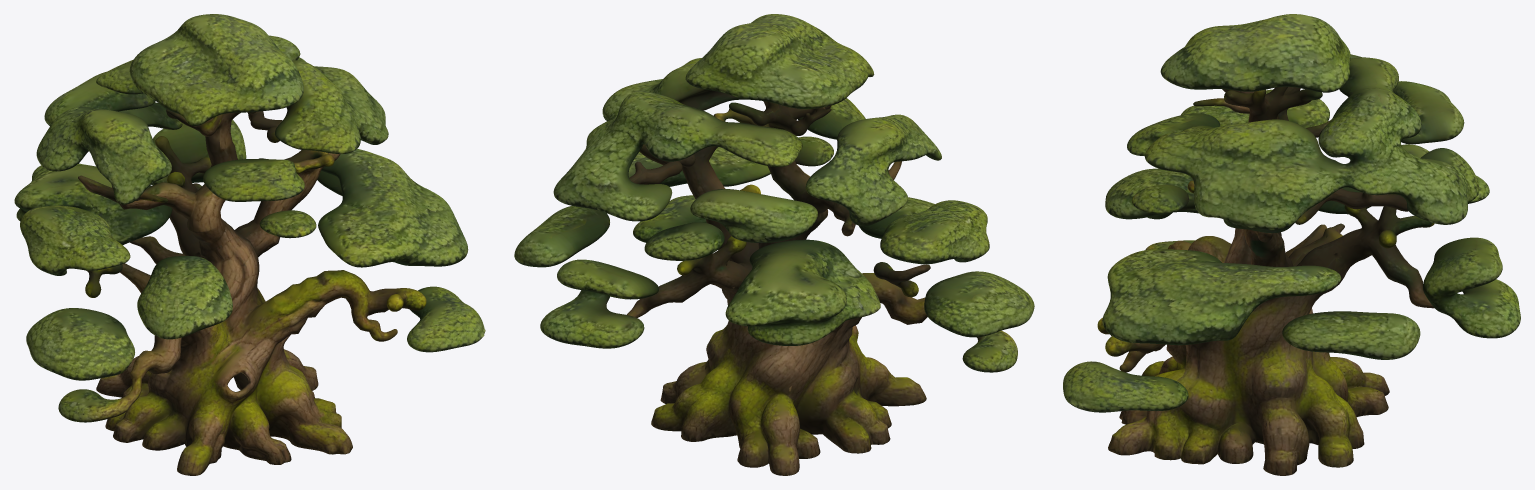
Rendered from old-oak-tree_anime_compresse.glb.
The picture shows the model from 3 angles, left to right: view 1: azimuth 30°, elevation 25°; view 2: azimuth 150°, elevation 25°; view 3: azimuth 270°, elevation 25°; orthographic projection. The views are drawn at different scales.
Visible parts, largest first — view 1: module_fit; view 2: module_fit; view 3: module_fit.
Boxes of the visible parts, box(x1,y1,x2,y2) form: module_fit: box(14, 14, 485, 475); module_fit: box(514, 14, 1034, 475); module_fit: box(1063, 14, 1520, 475).
Bounding box in the file's own units: 0.9144 × 0.813 × 0.8324.
1 material, 1 textured.
